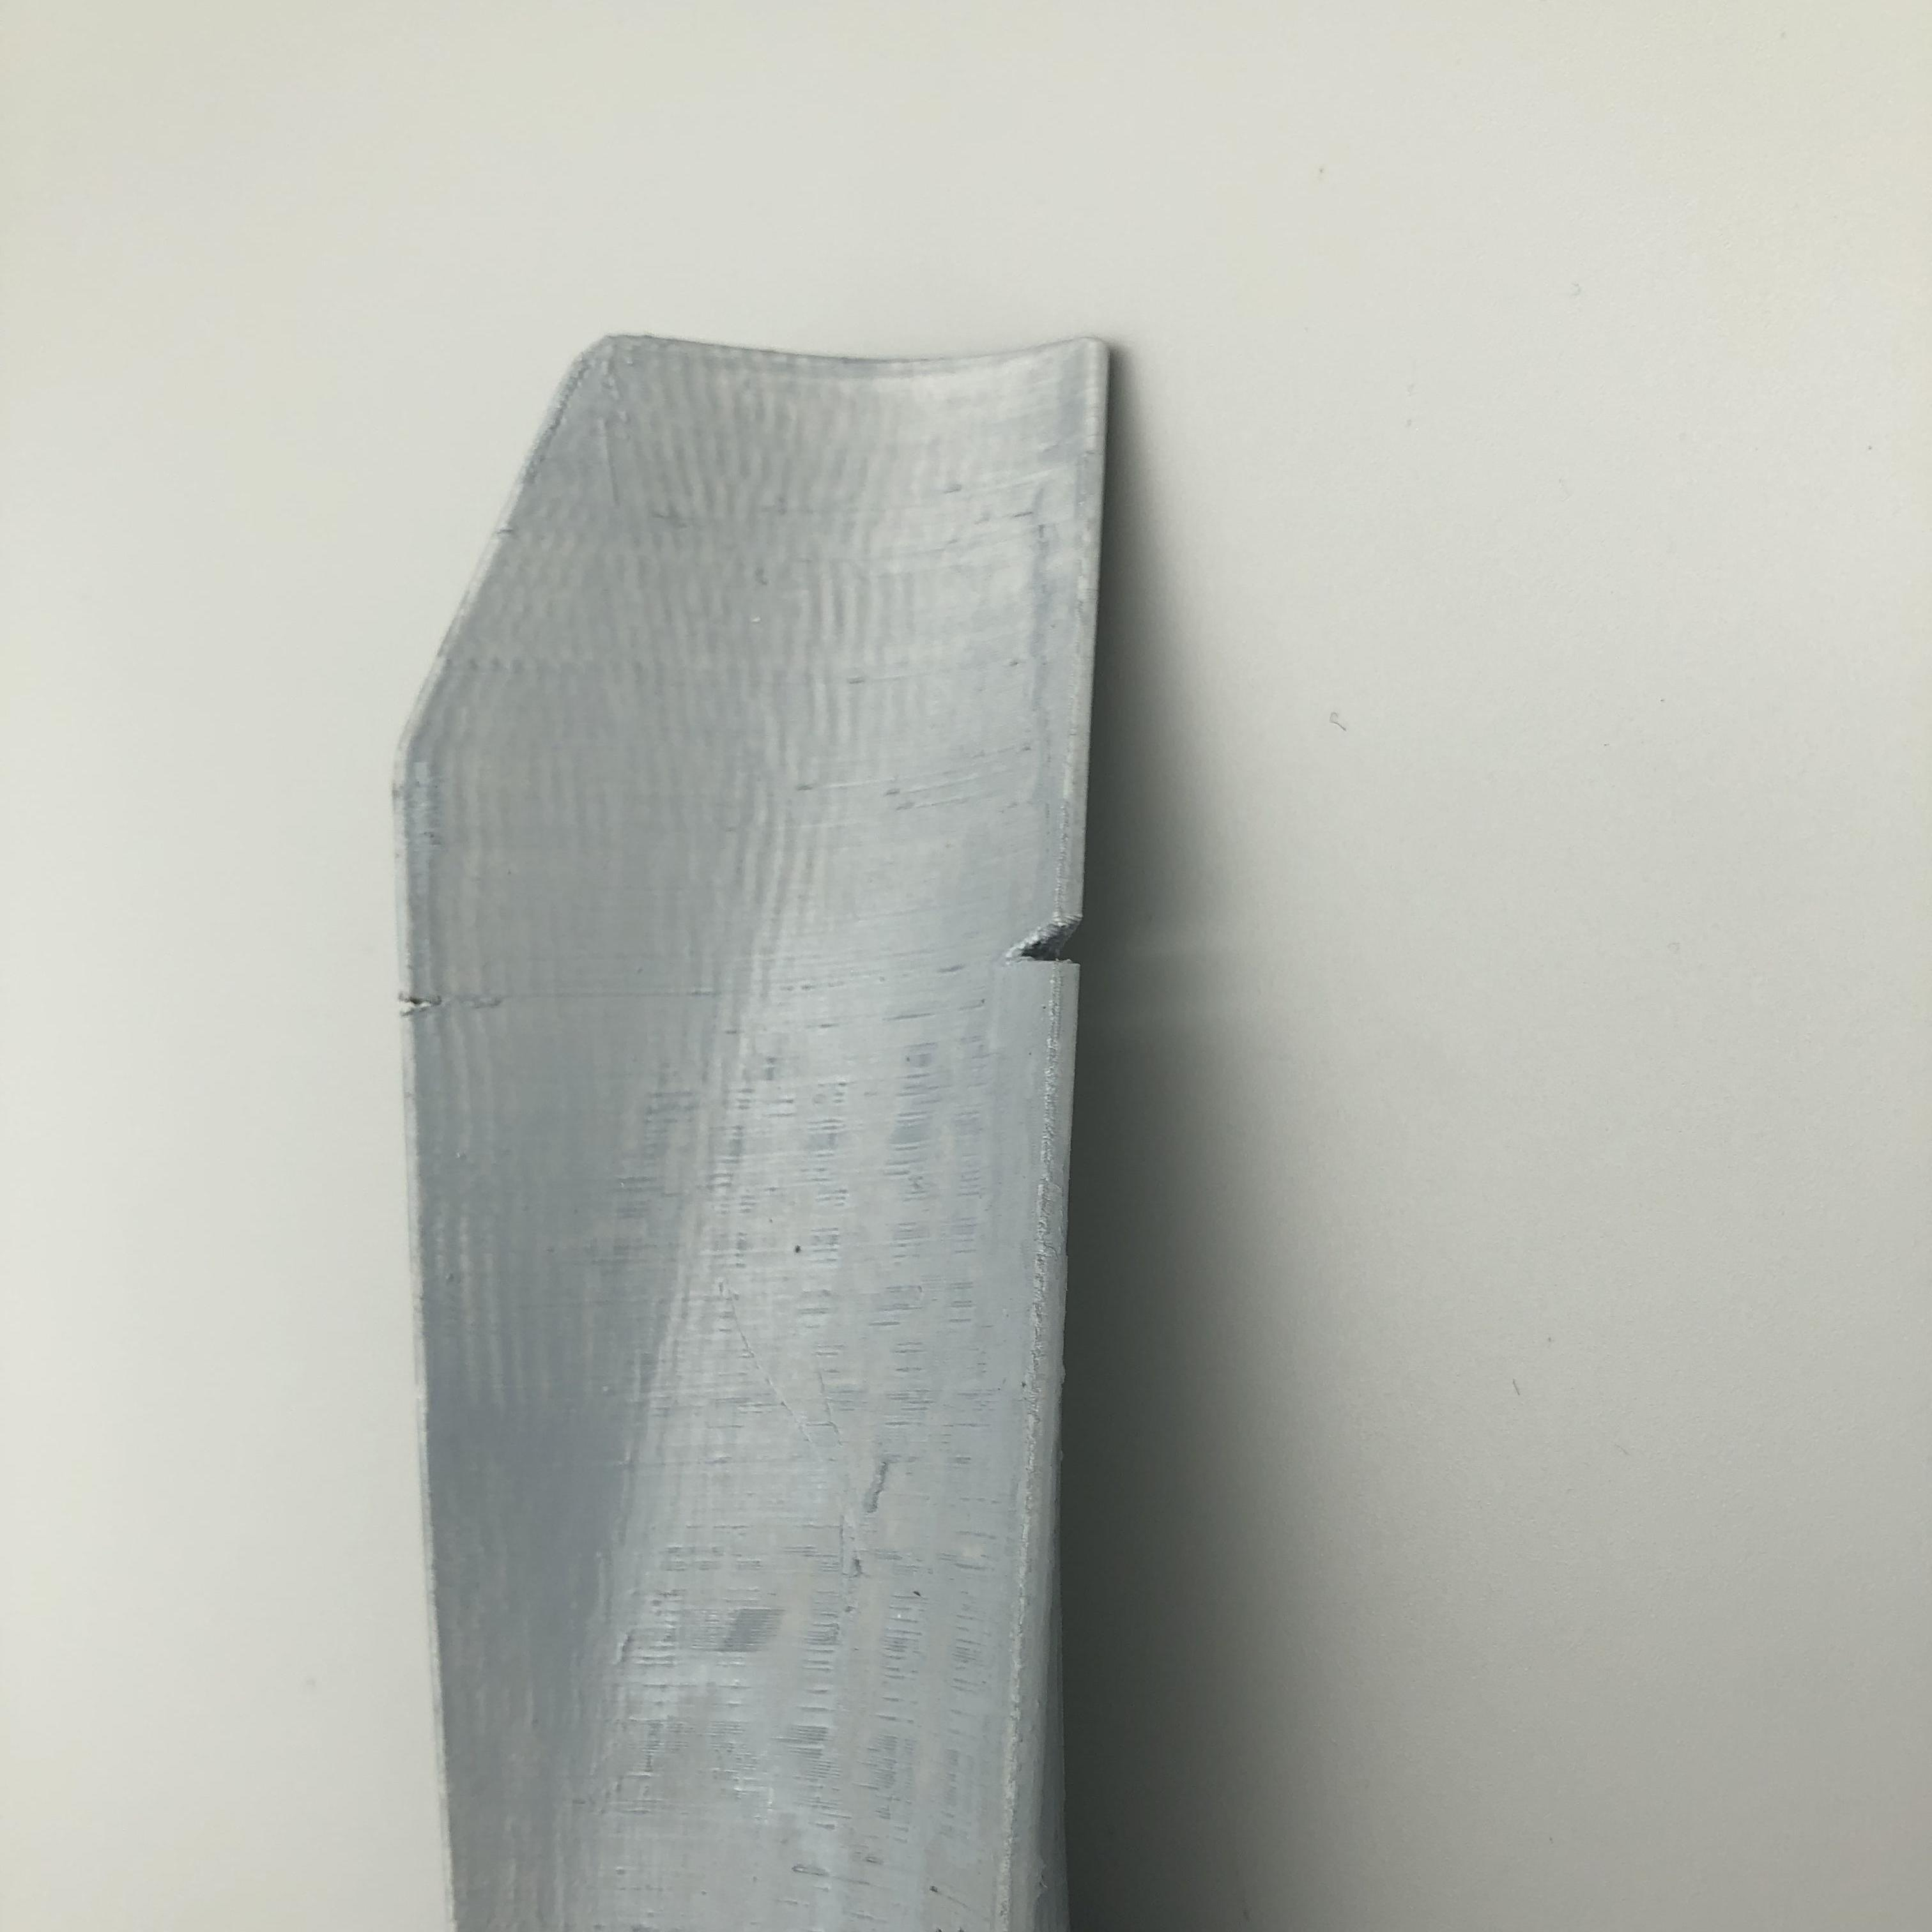groove: (1007, 909, 1086, 970), (393, 980, 451, 1019)
